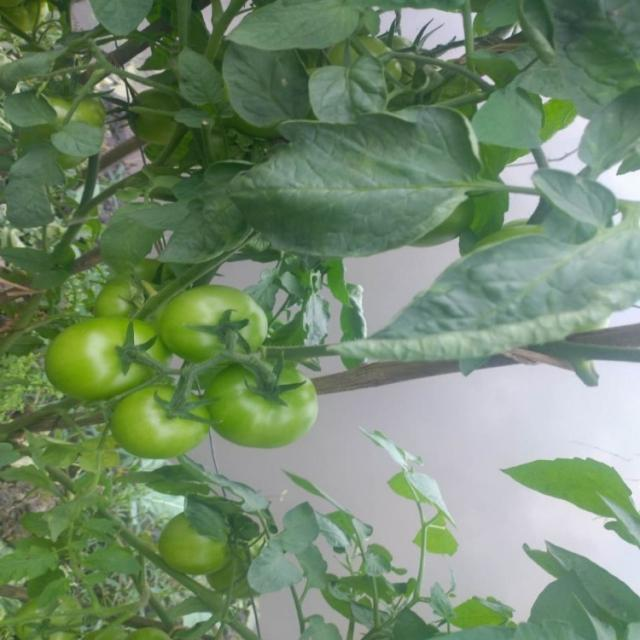tomato: (202, 352, 327, 455), (46, 311, 167, 406), (161, 273, 267, 364), (100, 377, 213, 459), (160, 510, 242, 586), (98, 268, 172, 322)
